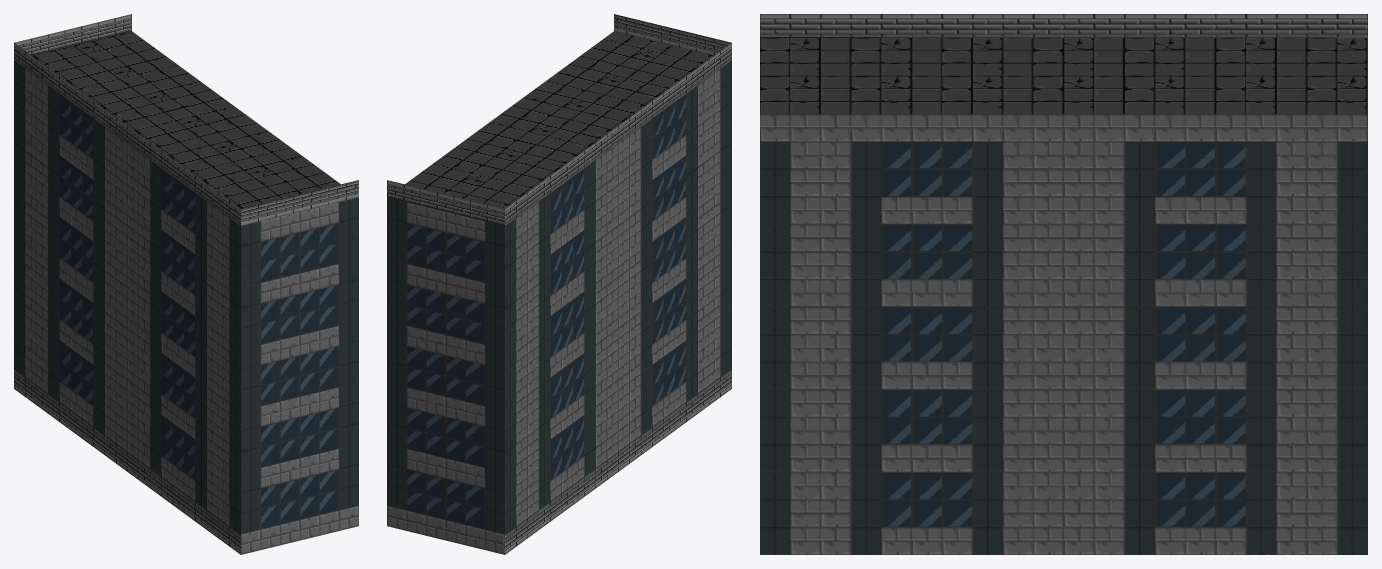
The model's file is Predio (2).fbx.
The picture shows the model from 3 angles, left to right: view 1: azimuth 30°, elevation 25°; view 2: azimuth 150°, elevation 25°; view 3: azimuth 270°, elevation 25°; orthographic projection. The views are drawn at different scales.
Visible parts, largest first — view 1: Cube; view 2: Cube; view 3: Cube.
Boxes of the visible parts, x1,y1,x2,y2 form: Cube: (14, 14, 358, 554); Cube: (387, 14, 731, 554); Cube: (760, 14, 1367, 554).
Bounding box in the file's own units: 600 × 1684 × 2000.
